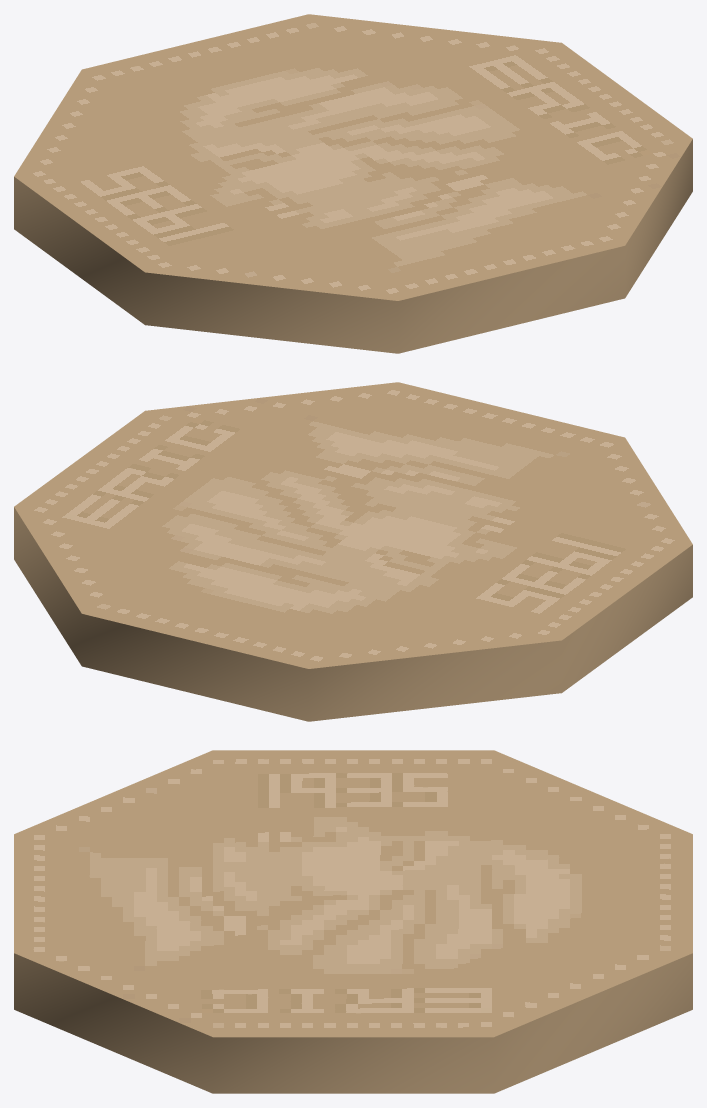
File: 02ed_Gold_Coin.glb
3 views of the same model, one above another, from view 1: azimuth 30°, elevation 25°; view 2: azimuth 150°, elevation 25°; view 3: azimuth 270°, elevation 25° (orthographic). The views are drawn at different scales.
Parts seen in each view (by area): view 1: part_0; view 2: part_0; view 3: part_0.
Part boxes in pixels (box(x1,y1,x2,y2)): part_0: box(14, 14, 692, 353); part_0: box(14, 382, 692, 721); part_0: box(14, 750, 692, 1093).
Bounding box in the file's own units: 0.0361 × 0.00332 × 0.0361.
Materials: 1 (1 with a texture image).
